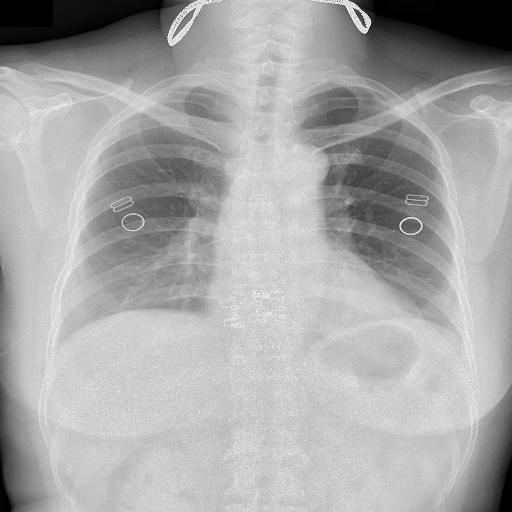Aortic enlargement: (245, 115, 302, 170)
Cardiomegaly: (92, 262, 316, 308)
